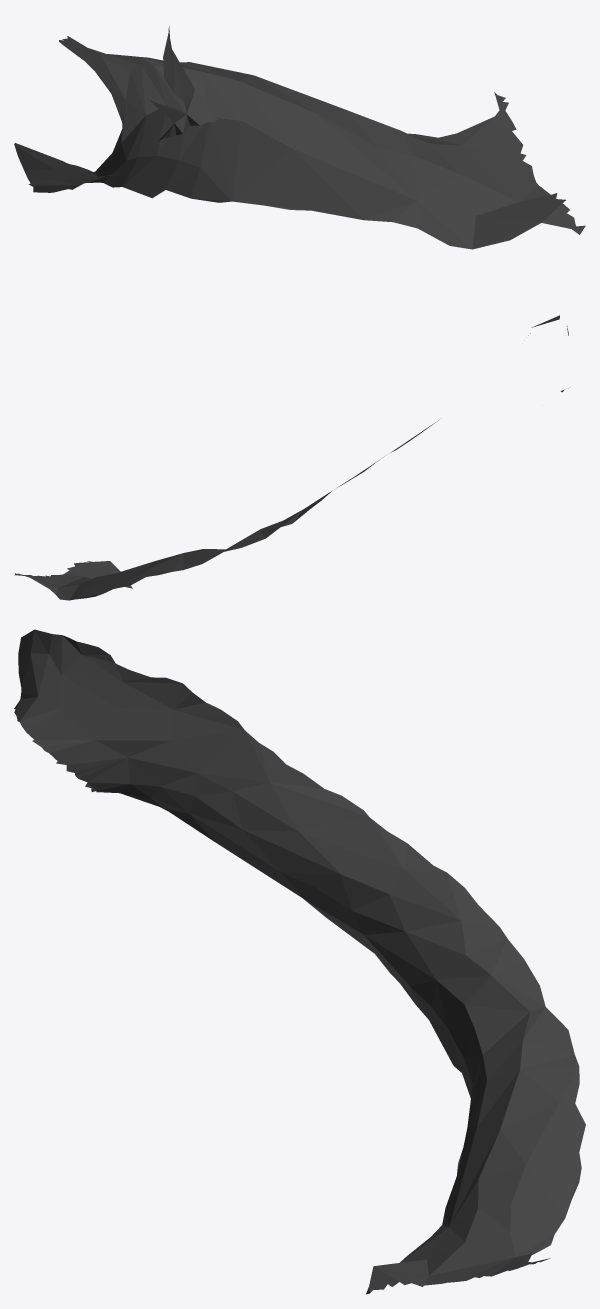
File: A_subclavian_L_A_subclavian_L.glb
3 renders of one model, top to bottom at view 1: azimuth 30°, elevation 25°; view 2: azimuth 150°, elevation 25°; view 3: azimuth 270°, elevation 25°, orthographic. The views are drawn at different scales.
Visible parts, largest first — view 1: A_subclavian_L_A_subclavian_L; view 2: A_subclavian_L_A_subclavian_L; view 3: A_subclavian_L_A_subclavian_L.
Part boxes in pixels (x1,y1,x2,y2): A_subclavian_L_A_subclavian_L: (14, 26, 585, 249); A_subclavian_L_A_subclavian_L: (14, 315, 569, 600); A_subclavian_L_A_subclavian_L: (14, 629, 585, 1294).
Bounding box in the file's own units: 0.0218 × 0.0143 × 0.0175.
Materials: 1 (1 with a texture image).
